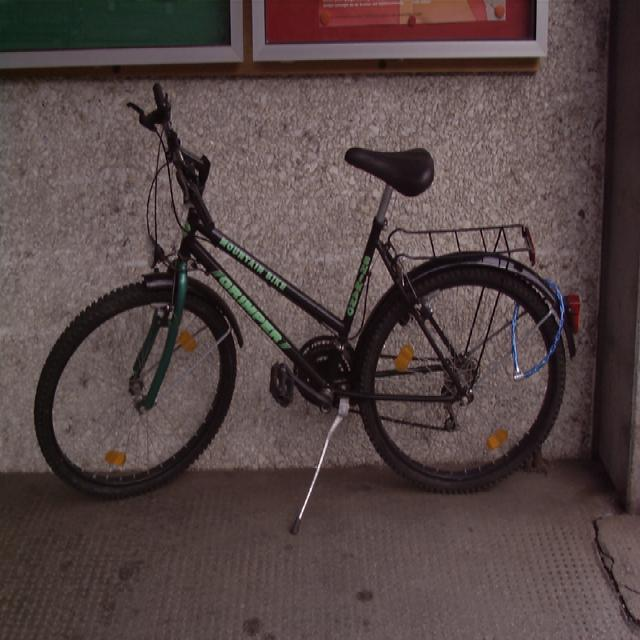bicycle: (33, 82, 574, 506)
